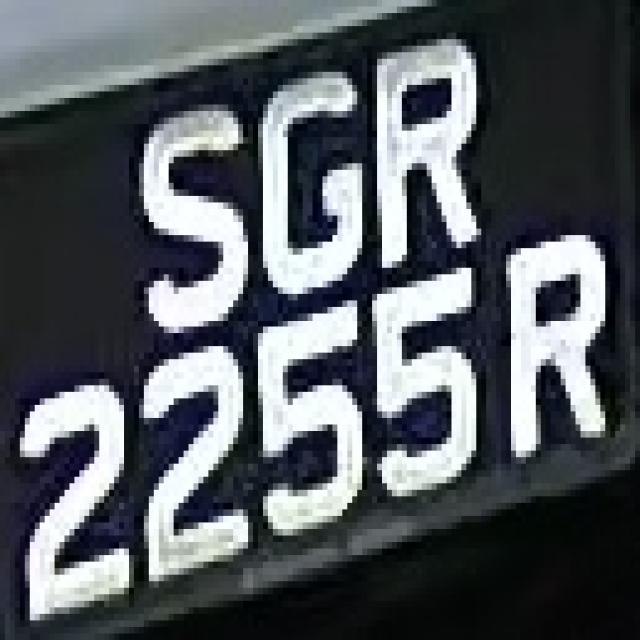2: (15, 365, 149, 640), (139, 307, 258, 594)
5: (233, 281, 382, 509), (348, 261, 482, 503)
G: (243, 46, 382, 294)
R: (491, 229, 630, 470), (372, 46, 506, 268)
S: (129, 72, 253, 340)
